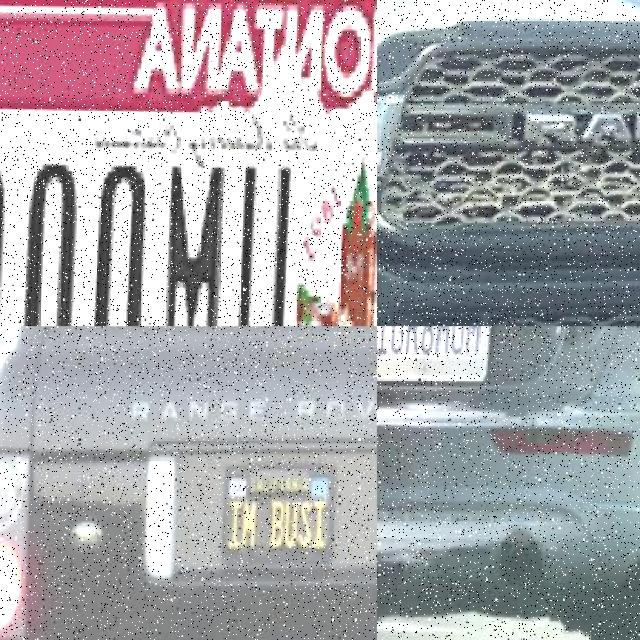licenseplate: (0, 114, 308, 326), (216, 466, 336, 579), (377, 326, 494, 399)
